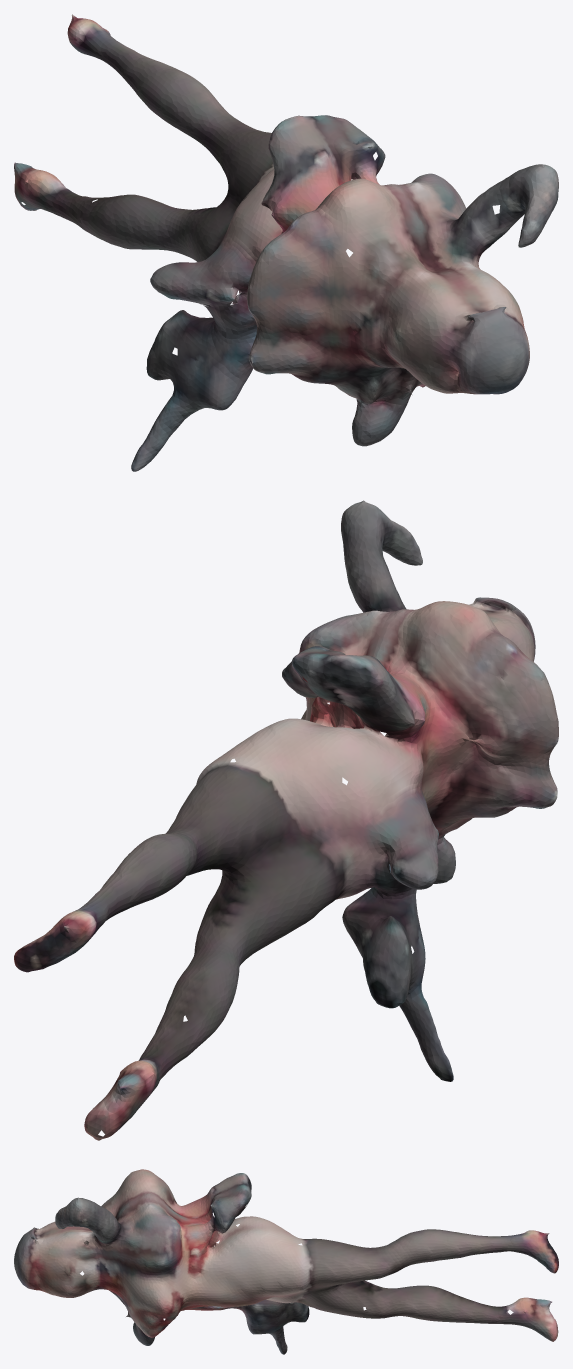
The model's file is character.glb.
The picture shows the model from 3 angles, top to bottom: view 1: azimuth 30°, elevation 25°; view 2: azimuth 150°, elevation 25°; view 3: azimuth 270°, elevation 25°; orthographic projection. The views are drawn at different scales.
Parts seen in each view (by area): view 1: world; view 2: world; view 3: world.
Part boxes in pixels (x1,y1,x2,y2): world: (14, 14, 558, 471); world: (14, 500, 558, 1140); world: (14, 1169, 558, 1354).
Size of the model in its own units: 0.3372 by 0.4477 by 0.9611.
